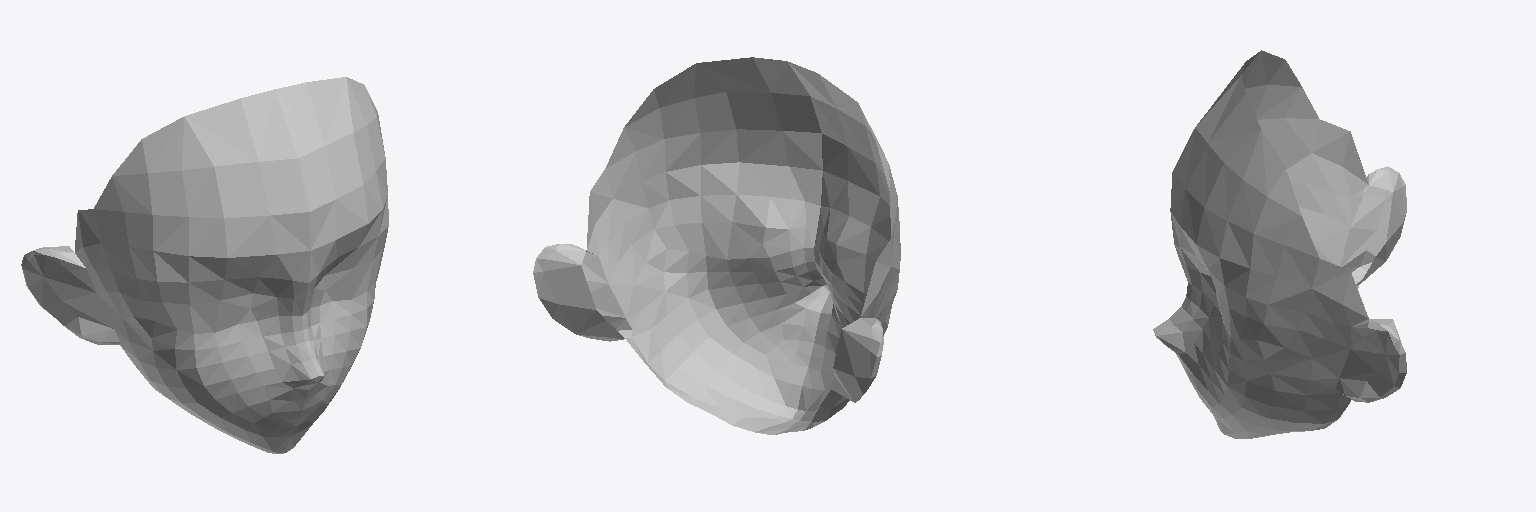
Rendered from kiana_face.obj.
3 views of the same model, side by side, from view 1: azimuth 30°, elevation 25°; view 2: azimuth 150°, elevation 25°; view 3: azimuth 270°, elevation 25° (orthographic).
Visible parts, largest first — view 1: Face; view 2: Face; view 3: Face.
Part boxes in pixels (x1,y1,x2,y2): Face: (21, 77, 388, 453); Face: (533, 57, 900, 434); Face: (1153, 50, 1406, 438).
Bounding box in the file's own units: 0.196 × 0.195 × 0.1242.